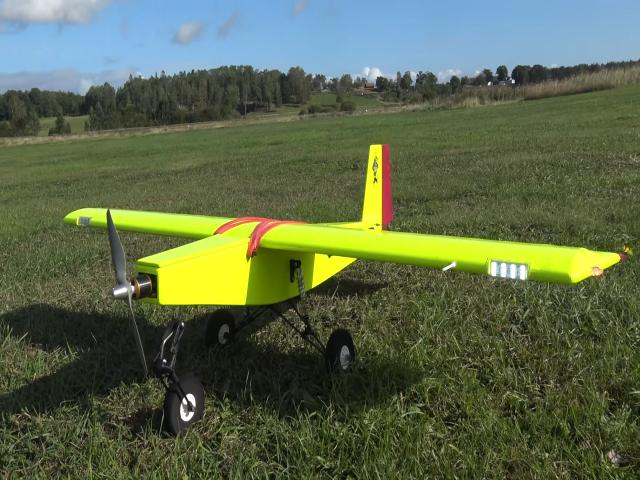plane: (62, 144, 626, 431)
